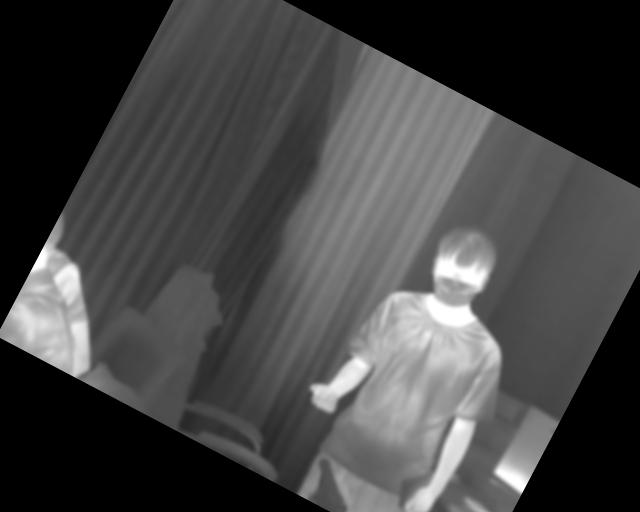face: (413, 216, 508, 319)
